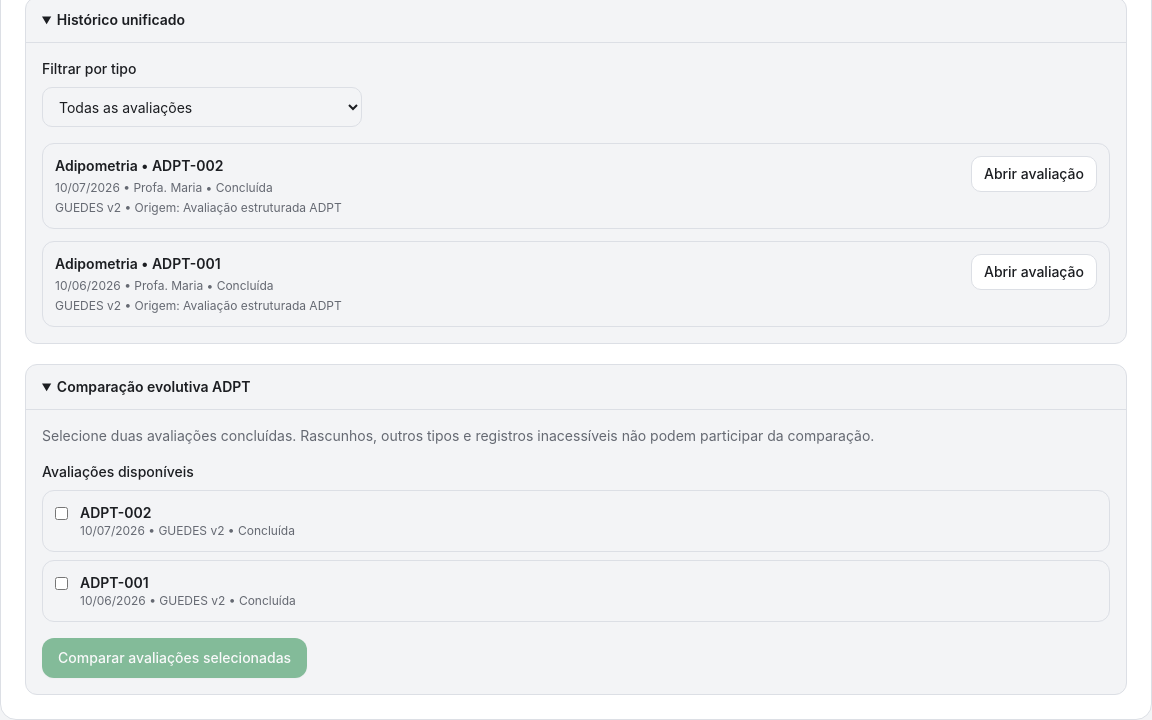
Scenario: AlunoAdipometryEvolutionCard › remove da selecao uma avaliacao que deixa de estar disponivel apos revalidacao
(page scrolled)
Expected: the checkbox labelled "ADPT-001 10/06/2026 • GUEDES v2 • Concluída" is shown, [55,577,68,590]
Step 1. Click the checkbox labelled "ADPT-002 10/07/2026 • GUEDES v2 • Concluída" → [62, 514], box [55,507,68,520]
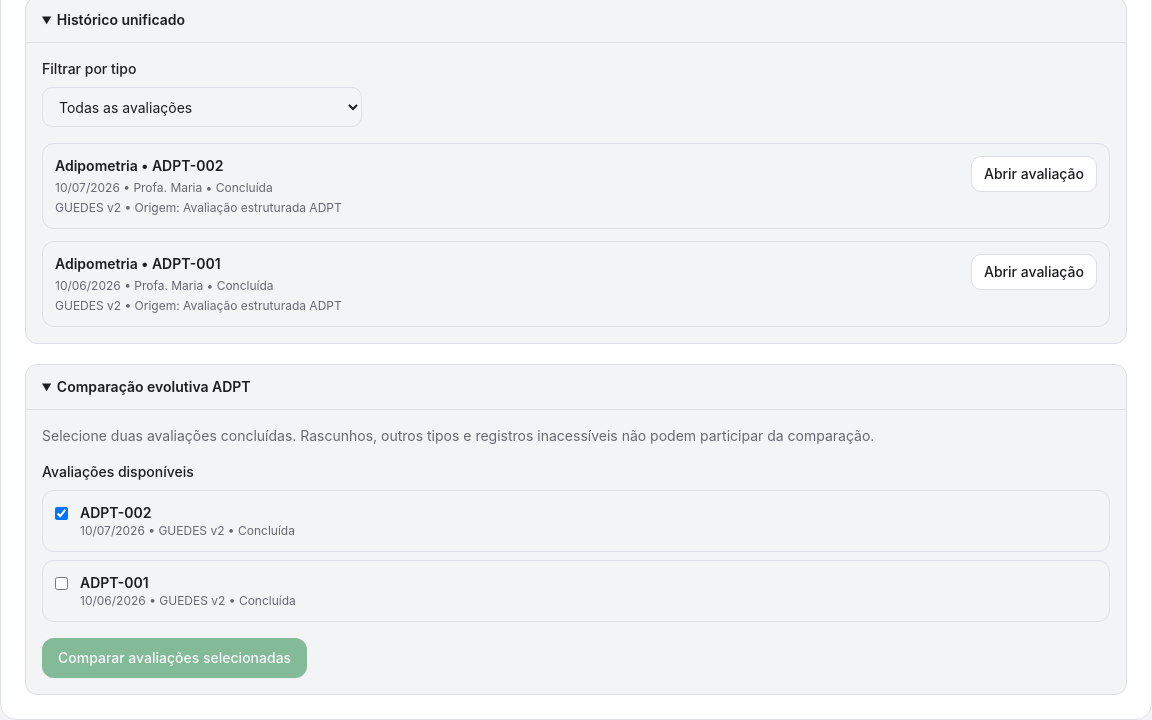
Step 2. Click the checkbox labelled "ADPT-001 10/06/2026 • GUEDES v2 • Concluída" → [62, 584], box [55,577,68,590]
(page scrolled)
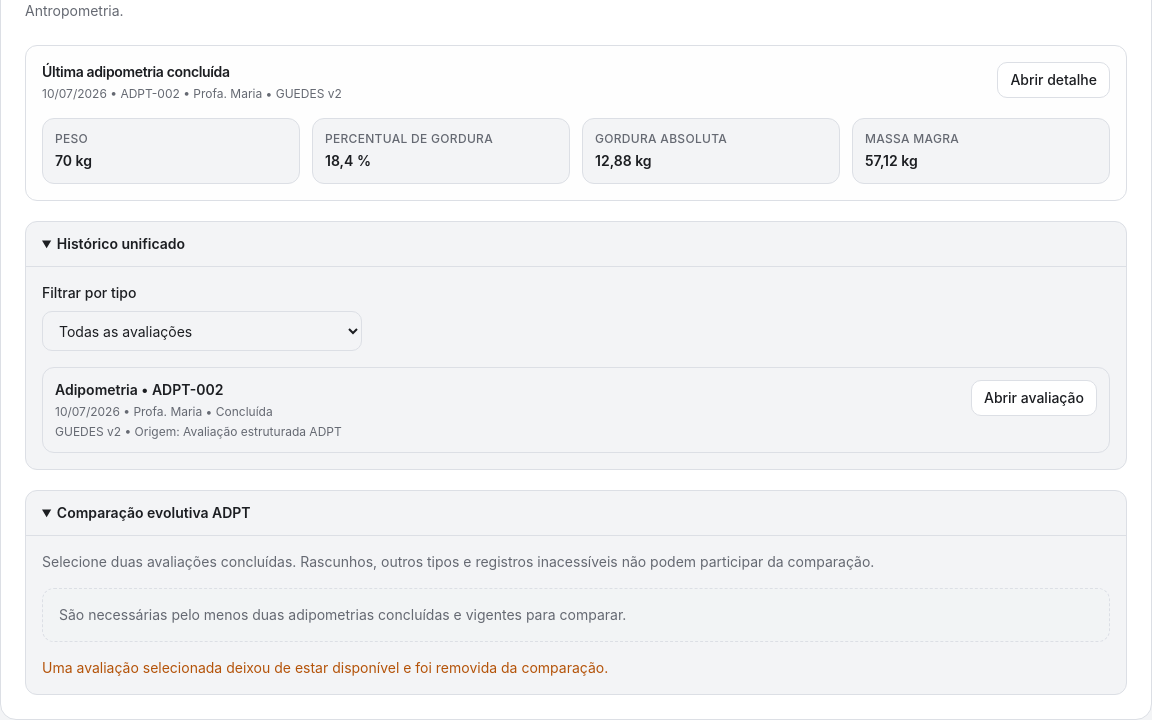
Expected: the text labelled "ADPT-001" is gone
Expected: the message shows "deixou de estar disponível", [42,659,608,676]
